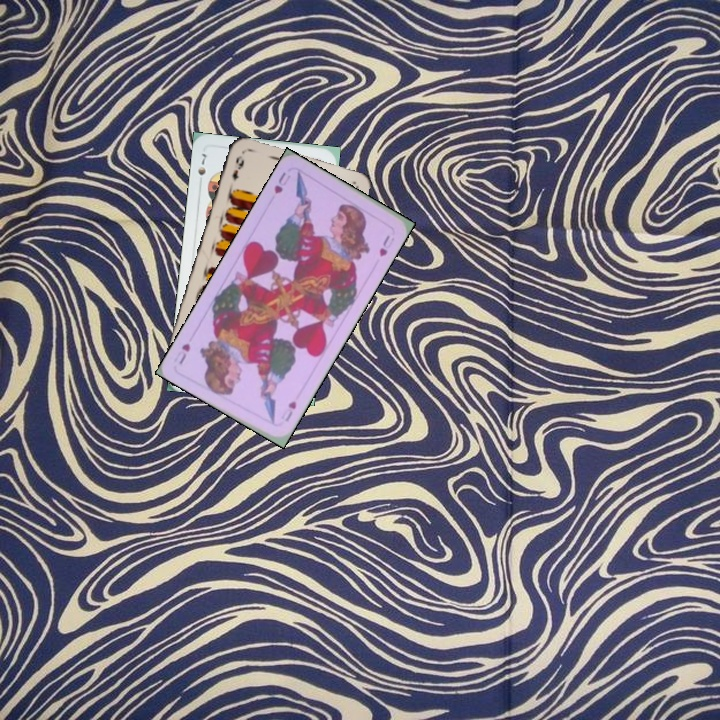E9: (228, 151, 247, 182)
HU: (270, 168, 293, 197), (277, 397, 299, 424)
S7: (194, 149, 209, 178)
